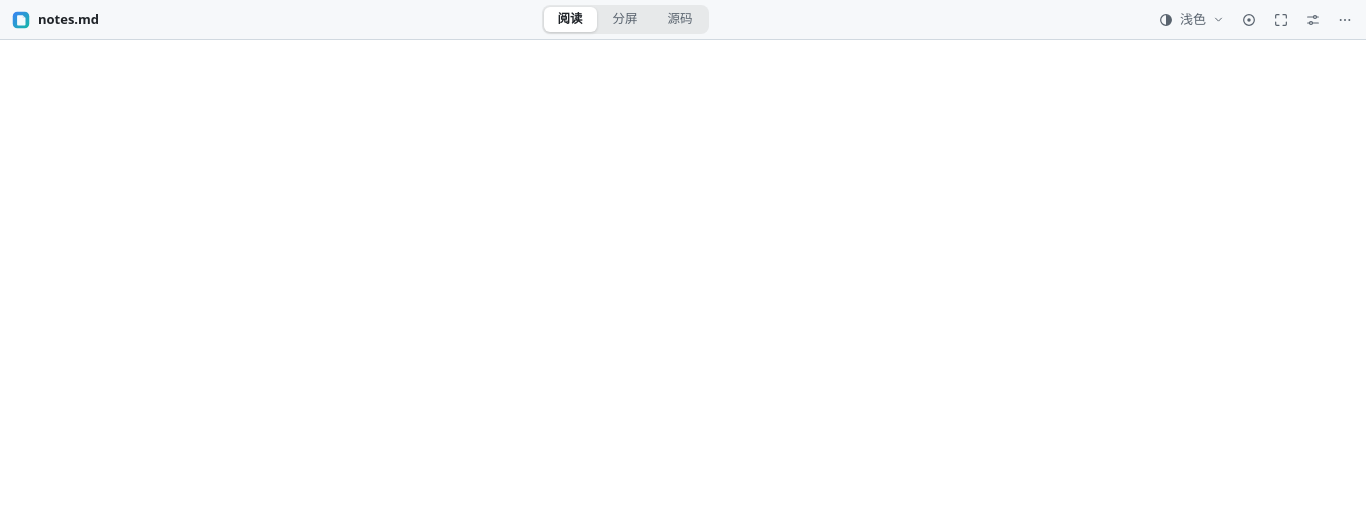
it: TitleBar › closes the open menu with Escape
Click the button titled "更多操作" at (1345, 20), box [1330,6,1360,34]
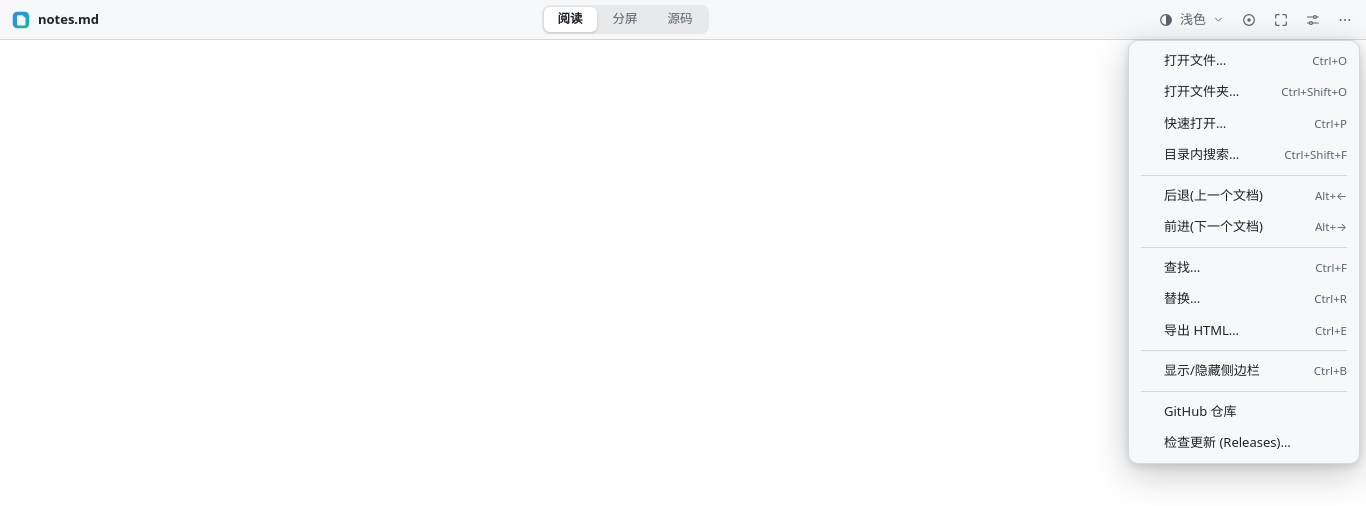
Result: the menu is shown
Press Escape in the menu, box [1128,40,1360,464]
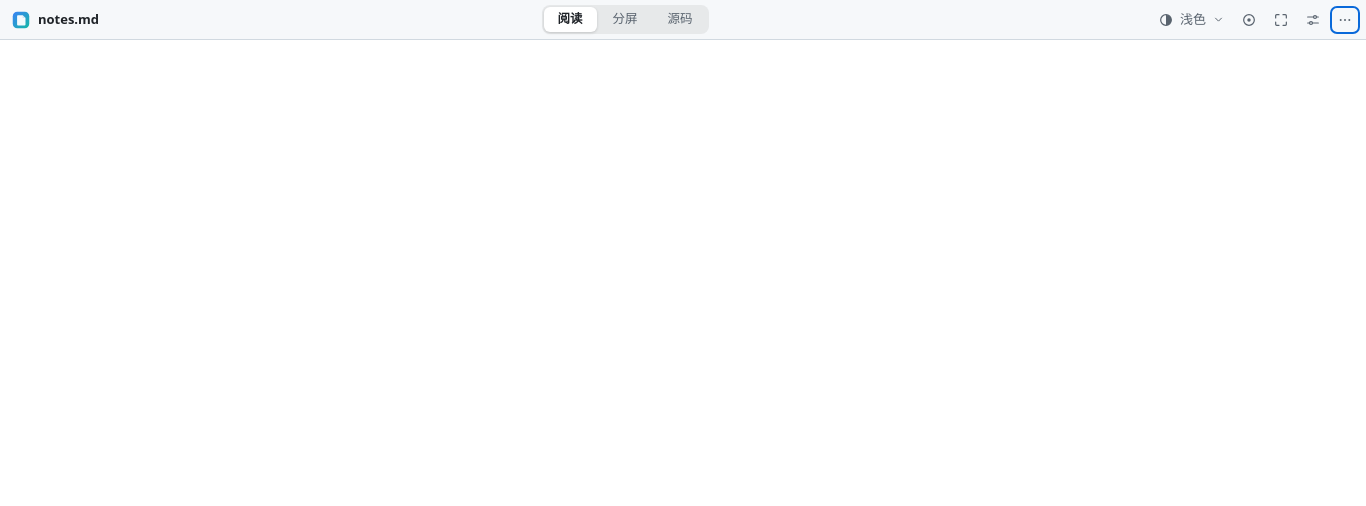
Result: the menu is gone
